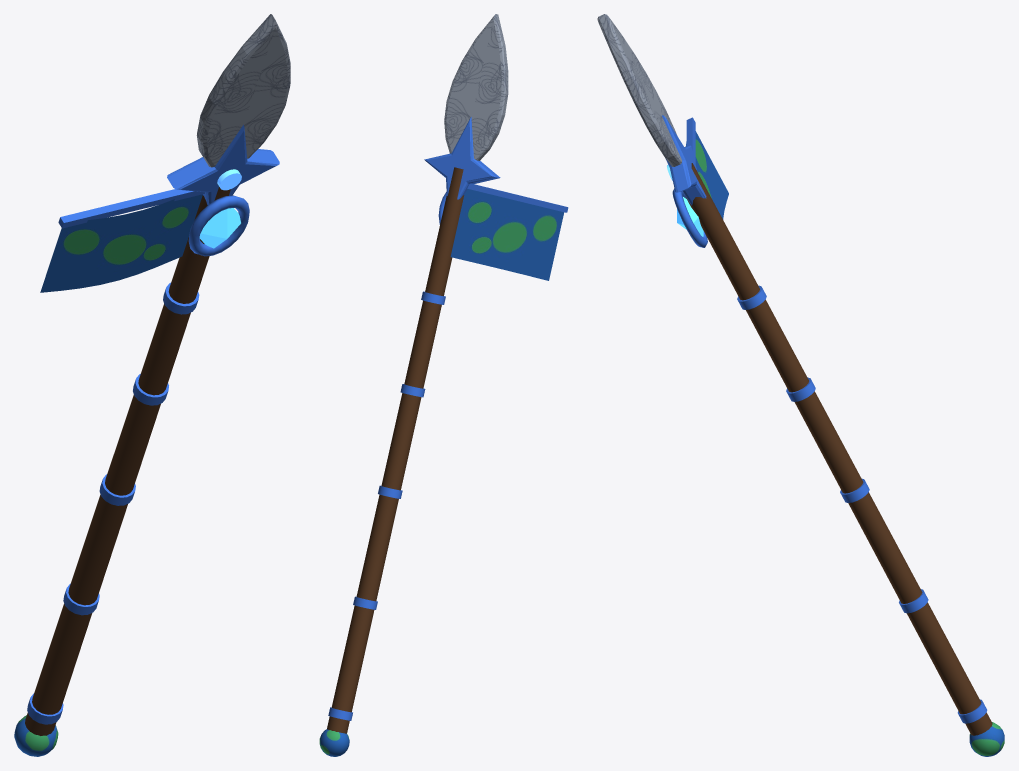
The model's file is hand_eqsa1.glb.
3 views of the same model, side by side, from view 1: azimuth 30°, elevation 25°; view 2: azimuth 150°, elevation 25°; view 3: azimuth 270°, elevation 25° (orthographic). The views are drawn at different scales.
Size of the model in its own units: 1.71 by 7.08 by 3.53.
7 materials, 3 textured.
